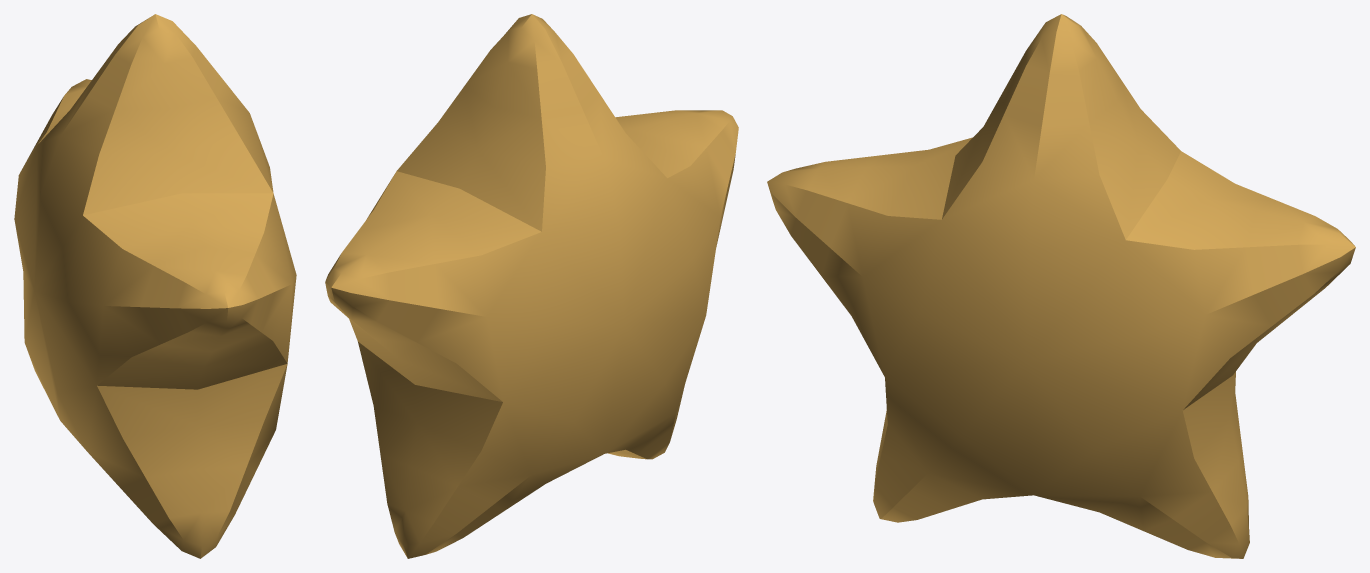
Rendered from Star.001.fbx.
3 renders of one model, left to right at view 1: azimuth 30°, elevation 25°; view 2: azimuth 150°, elevation 25°; view 3: azimuth 270°, elevation 25°, orthographic. The views are drawn at different scales.
Parts seen in each view (by area): view 1: Star.001; view 2: Star.001; view 3: Star.001.
Part boxes in pixels (box(x1,y1,x2,y2)): Star.001: box(14, 14, 296, 558); Star.001: box(325, 14, 738, 558); Star.001: box(767, 14, 1355, 558).
Size of the model in its own units: 76.91 by 144 by 146.
